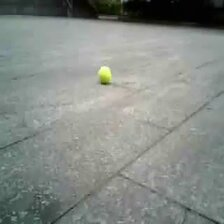tennis: (98, 66, 111, 82)
